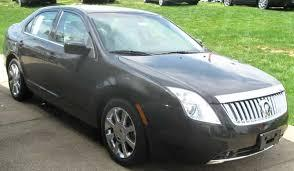Mercury: (256, 95, 279, 119)
